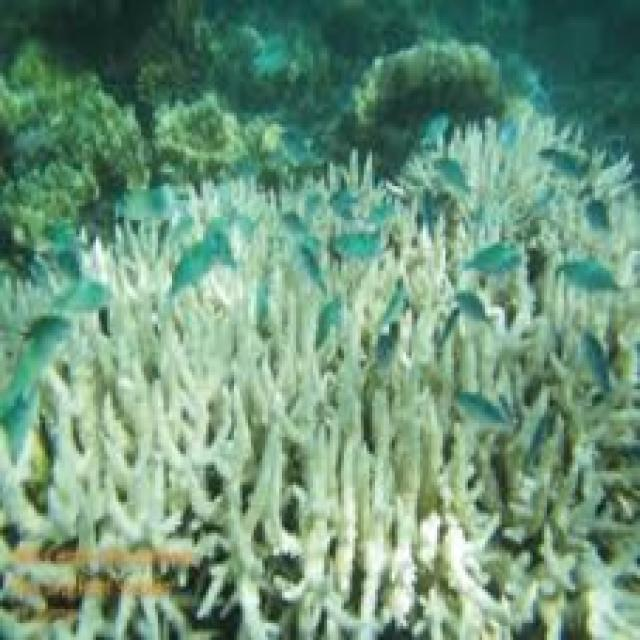Bleached: (1, 471, 640, 640), (66, 376, 453, 640), (120, 299, 321, 406), (476, 129, 549, 212), (610, 314, 640, 470)
